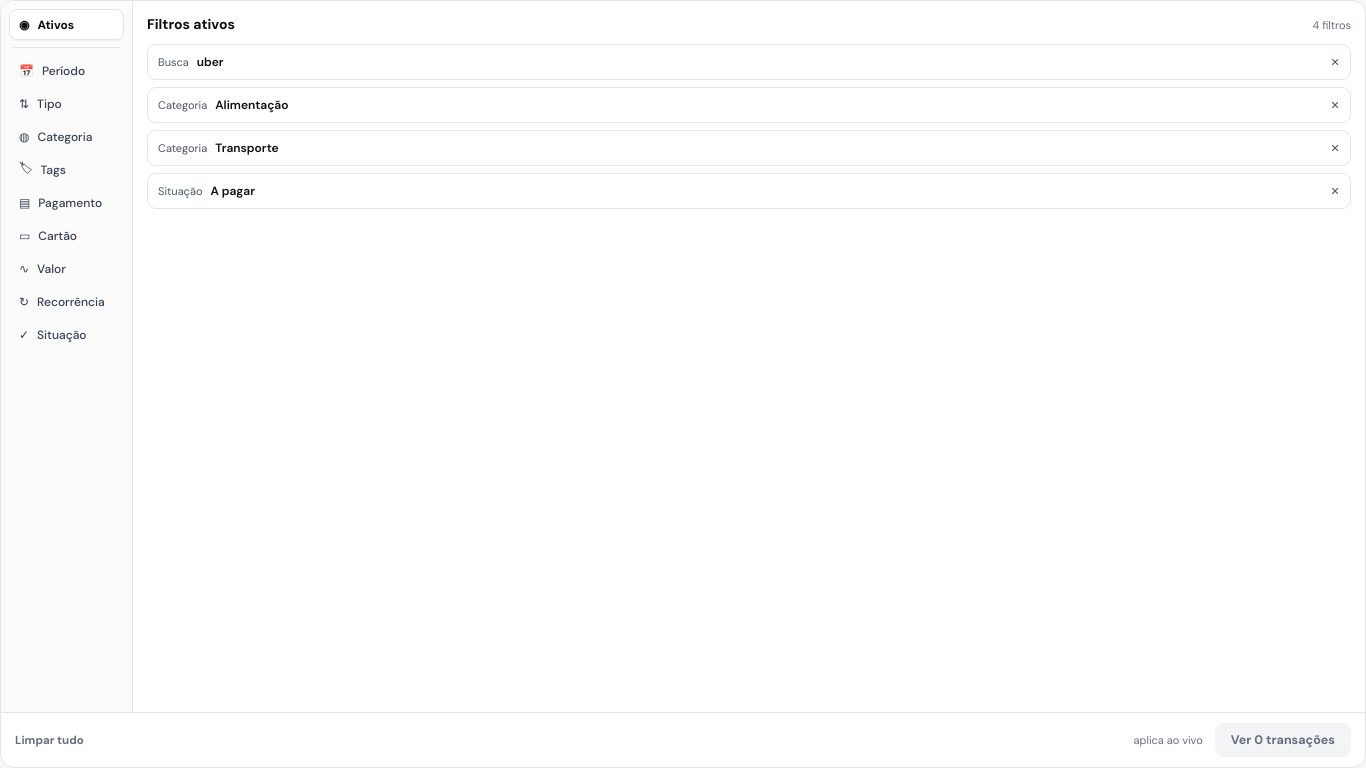
Test case: <ActiveFacetsPane> — clique no corpo › a busca não promete um painel que não existe
Hover over the button with aria-label "Ir para o filtro Busca: uber" at (173, 62), box [148,45,1316,79]
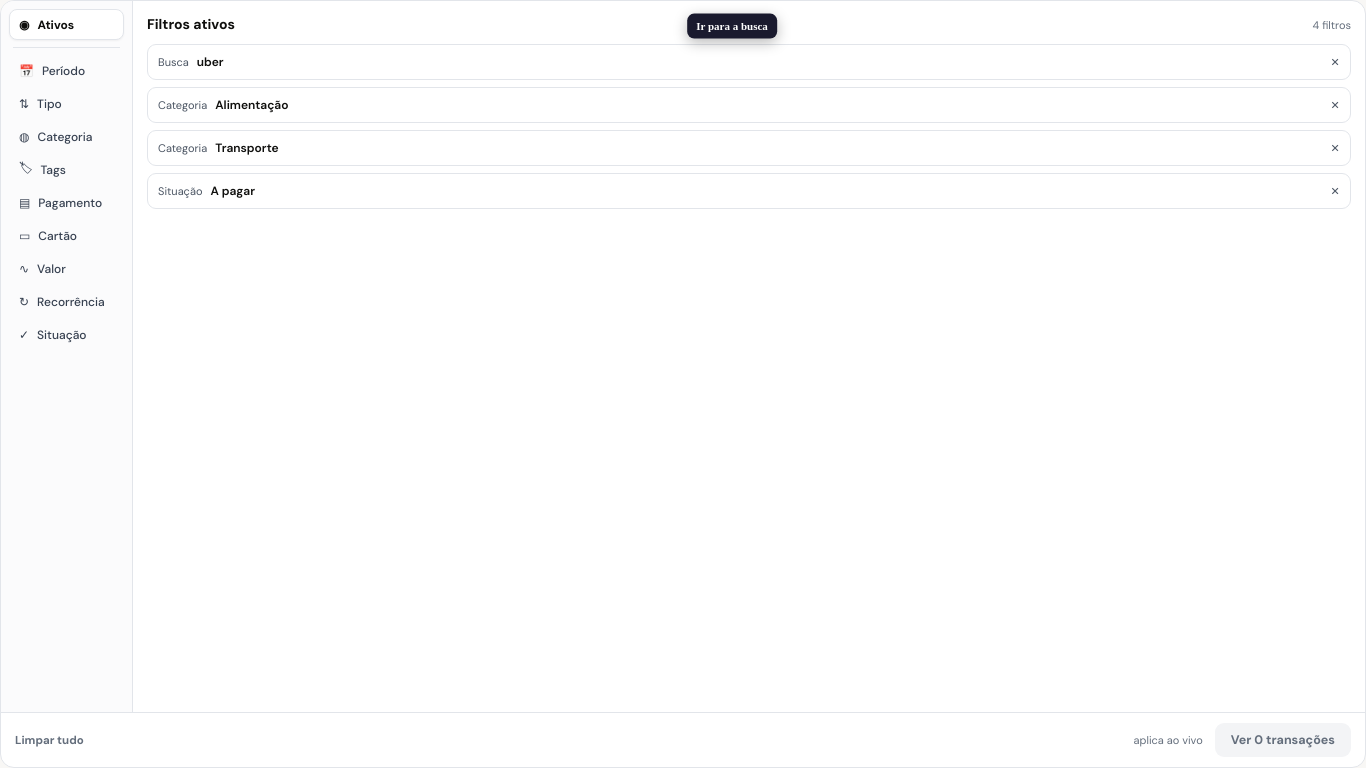
Expected: the tooltip "Ir para a busca" is shown, [687,14,777,39]
